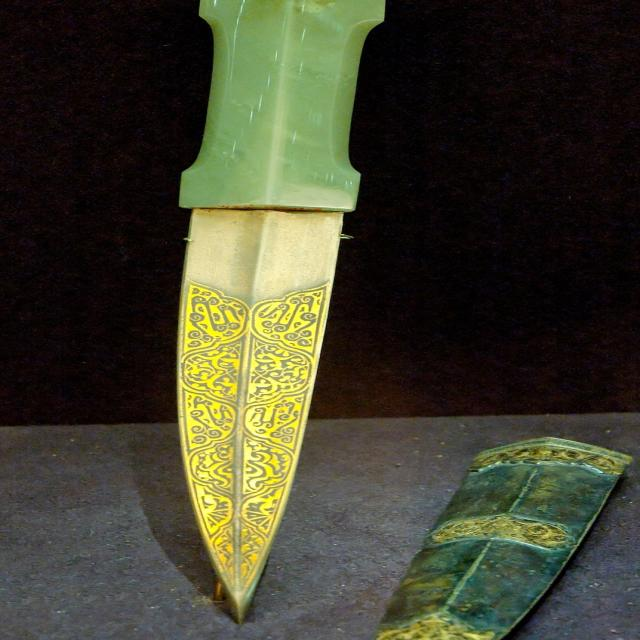Gun: (86, 0, 418, 626)
